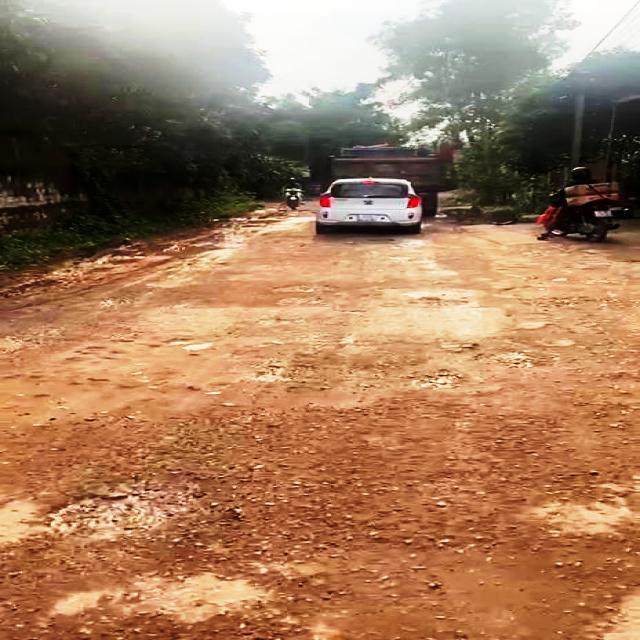pothole: (314, 533, 625, 640), (51, 474, 212, 551), (487, 348, 539, 371), (411, 370, 466, 391), (254, 362, 294, 384)
